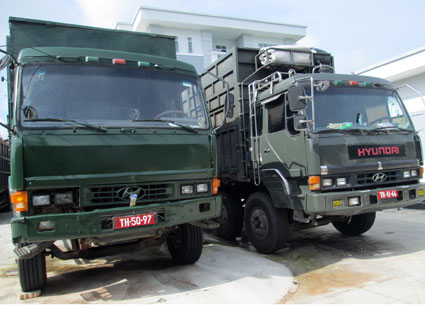plate: (112, 214, 159, 230), (376, 187, 398, 200)
